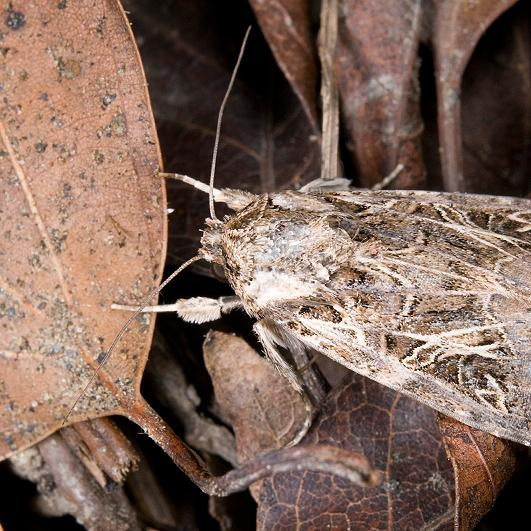Spodoptera litura: (63, 26, 531, 447)
